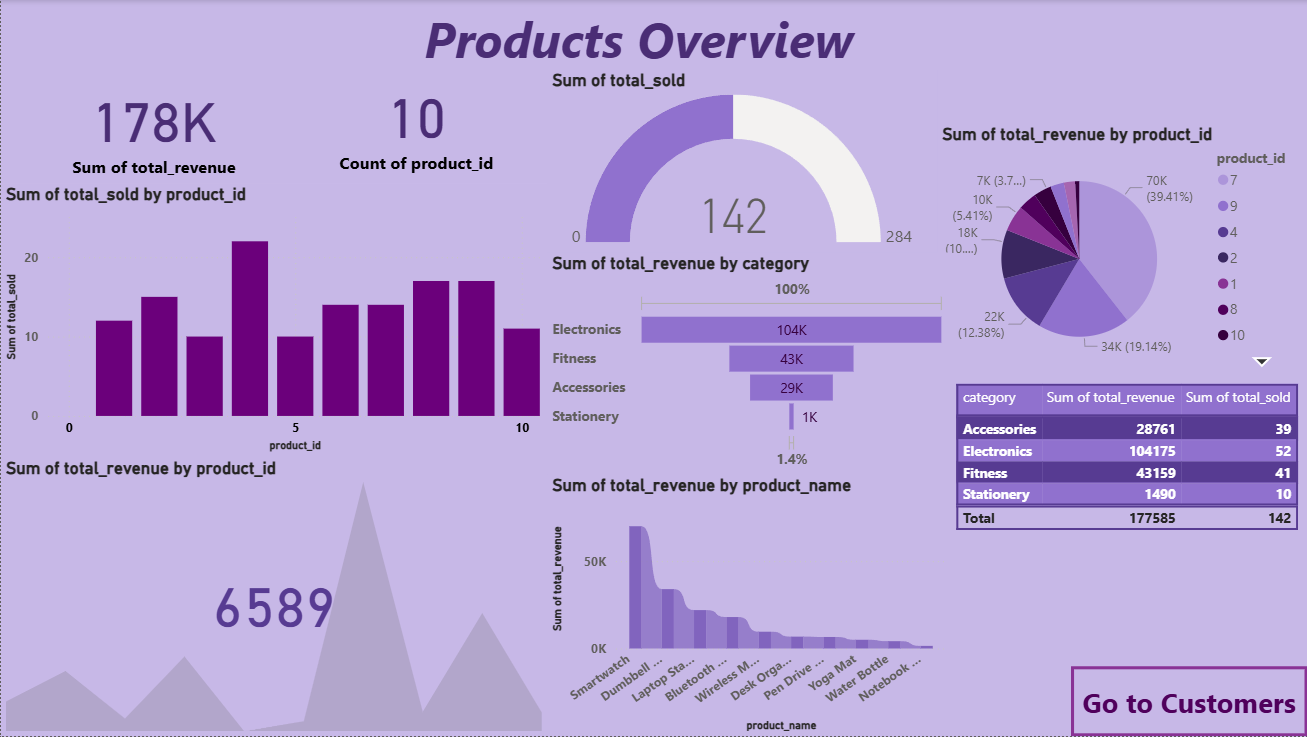

This screenshot's page, from the dashboard's own definition file:
{"tool":"powerbi","page":{"name":"Page 2","canvas":[1280,720],"ordinal":1},"visuals":[{"type":"textbox","box":[361.4,0,524.3,80],"z":0},{"type":"card","fields":{"Values":["Sum(gold_revenue.total_revenue)"]},"box":[0,68.6,300,111.4],"z":1000},{"type":"columnChart","fields":{"Category":["gold_products.product_id"],"Y":["Sum(gold_products.total_sold)"]},"box":[0,180,534.3,267.1],"z":2000},{"type":"card","fields":{"Values":["CountNonNull(gold_products.product_id)"]},"box":[278.6,61.4,255.7,118.6],"z":3000},{"type":"tableEx","fields":{"Values":["gold_revenue.category","Sum(gold_revenue.total_revenue)","Sum(gold_products.total_sold)"]},"box":[928.6,370,350,222.9],"z":4000},{"type":"pieChart","fields":{"Y":["Sum(gold_revenue.total_revenue)"],"Category":["gold_products.product_id"]},"box":[915.7,121.4,364.3,245.7],"z":5000},{"type":"kpi","fields":{"Indicator":["Sum(gold_revenue.total_revenue)"],"TrendLine":["gold_revenue.product_id"]},"box":[0,447.1,534.3,272.9],"z":6000},{"type":"gauge","fields":{"Y":["Sum(gold_products.total_sold)"]},"box":[534.3,68.6,381.4,178.6],"z":7000},{"type":"ribbonChart","fields":{"Category":["gold_revenue.product_name"],"Y":["Sum(gold_revenue.total_revenue)"]},"box":[534.3,464.3,395.7,255.7],"z":8000},{"type":"funnel","fields":{"Category":["gold_revenue.category"],"Y":["Sum(gold_revenue.total_revenue)"]},"box":[534.3,247.1,395.7,217.1],"z":9000},{"type":"actionButton","box":[1047.1,651.4,231.4,68.6],"z":10000}]}

Visuals, with their boxes in screenshot pixels (x1, y1, x2, y2), scaled from the page's 1280x720 canvas onto the 1307x737 screenshot:
textbox: Rect(369, 0, 904, 82)
card - Sum(gold_revenue.total_revenue): Rect(0, 70, 306, 184)
columnChart - gold_products.product_id x Sum(gold_products.total_sold): Rect(0, 184, 546, 458)
card - CountNonNull(gold_products.product_id): Rect(284, 63, 546, 184)
tableEx - gold_revenue.category x Sum(gold_revenue.total_revenue): Rect(948, 379, 1306, 607)
pieChart - Sum(gold_revenue.total_revenue) x gold_products.product_id: Rect(935, 124, 1306, 376)
kpi - Sum(gold_revenue.total_revenue) x gold_revenue.product_id: Rect(0, 458, 546, 736)
gauge - Sum(gold_products.total_sold): Rect(546, 70, 935, 253)
ribbonChart - gold_revenue.product_name x Sum(gold_revenue.total_revenue): Rect(546, 475, 950, 736)
funnel - gold_revenue.category x Sum(gold_revenue.total_revenue): Rect(546, 253, 950, 475)
actionButton: Rect(1069, 667, 1305, 736)
